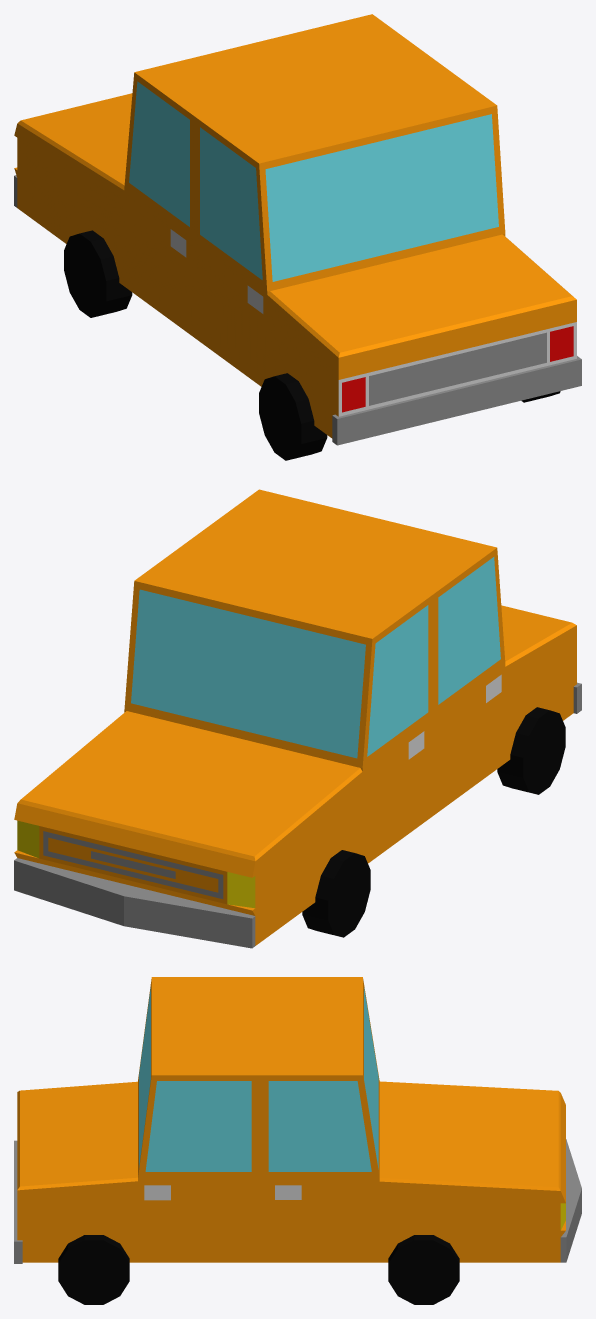
Rendered from Car_Orange.fbx.
3 views of the same model, one above another, from view 1: azimuth 30°, elevation 25°; view 2: azimuth 150°, elevation 25°; view 3: azimuth 270°, elevation 25° (orthographic). The views are drawn at different scales.
Visible parts, largest first — view 1: Model; view 2: Model; view 3: Model.
Boxes of the visible parts, x1,y1,x2,y2 form: Model: (14,14,581,460); Model: (14,489,581,948); Model: (14,977,581,1304).
Size of the model in its own units: 30.34 by 29.07 by 66.76.
